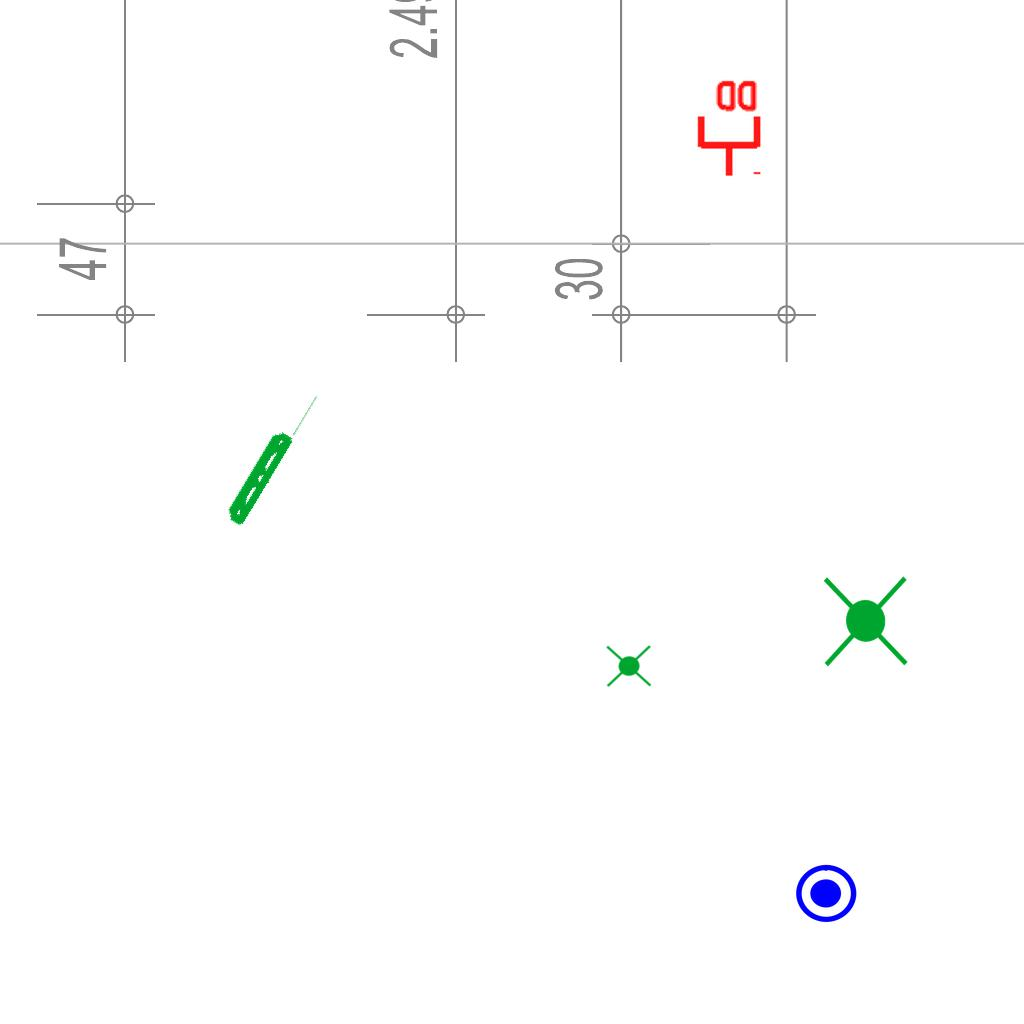Datenanschluss_zweifach: (693, 76, 762, 179)
Notlichtbaustein_in_Allgemeinbeleuchtug_engebaut_Einbau_(1UG_und_2UG_Aufbauvaria: (813, 571, 916, 671), (604, 640, 654, 691)
Sicherheitsleuchte_Wandeinbau: (219, 380, 324, 531)
Taster: (793, 858, 859, 924)
